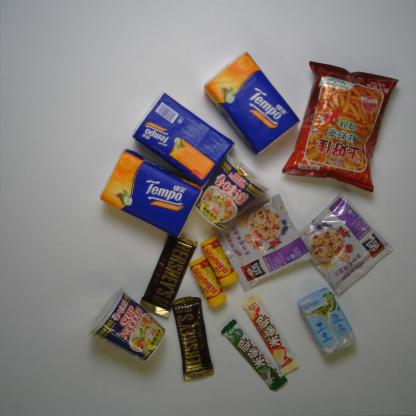Candy: (193, 229, 245, 292), (187, 251, 227, 314)
Chocolate: (214, 316, 293, 402), (139, 223, 201, 323), (233, 295, 304, 382), (172, 289, 221, 387)
Instant Drink: (213, 186, 315, 295), (296, 197, 388, 299)
Instant Noodles: (71, 290, 176, 369), (185, 149, 278, 238)
Milk: (287, 277, 365, 366)
Puffed Food: (278, 40, 402, 193)
Tissue: (82, 142, 214, 244), (128, 88, 256, 192), (199, 42, 302, 156)
